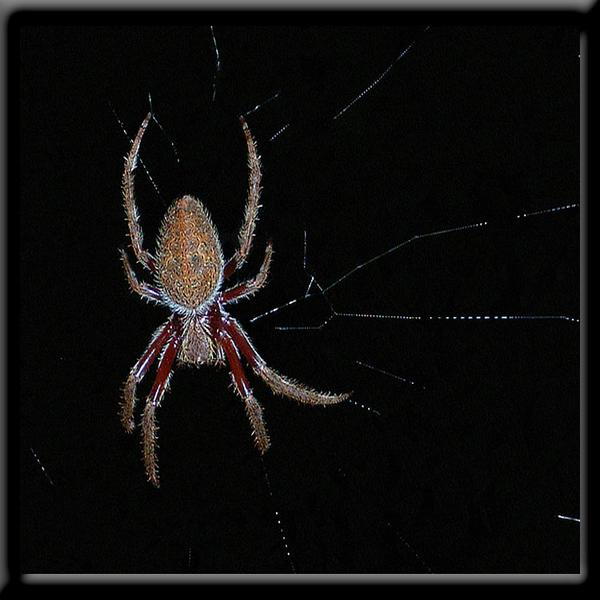Garden Orb Weaver Spider: (114, 114, 329, 470)
